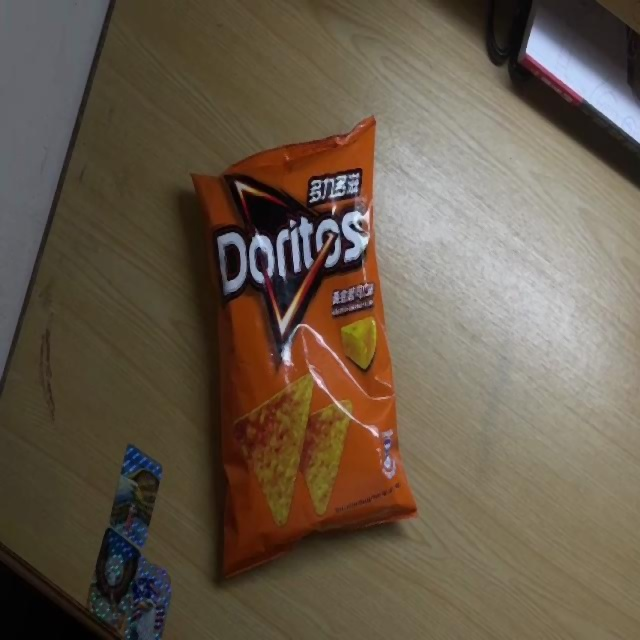Doritos: (188, 115, 418, 588)
